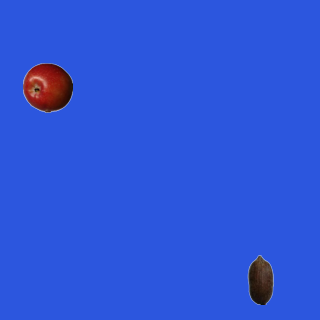Apple Braeburn: (22, 62, 72, 112)
Nut Pecan: (235, 254, 285, 304)
